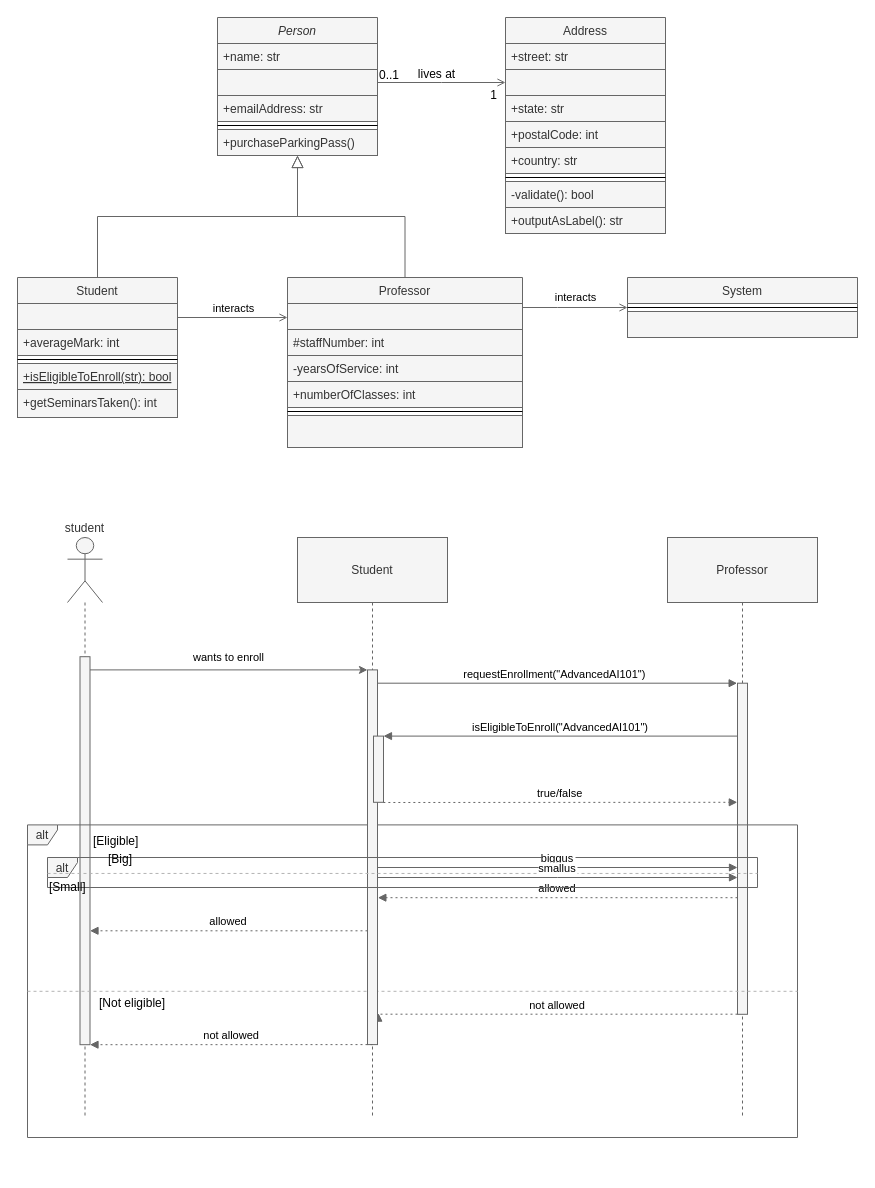
Image size: 875x1188. Some labels were removed from this diagram. Here are the shapes that lost their labels. From the top down, the centre of each, then its label:
pixel 297 82: +phoneNumber: str
pixel 585 82: +city: str
pixel 97 316: +studentNumber: int
pixel 404 316: /salary: int
pixel 742 324: +approveEnrollment(course str): bool
pixel 404 431: +requestEnrollment(course str): bool
